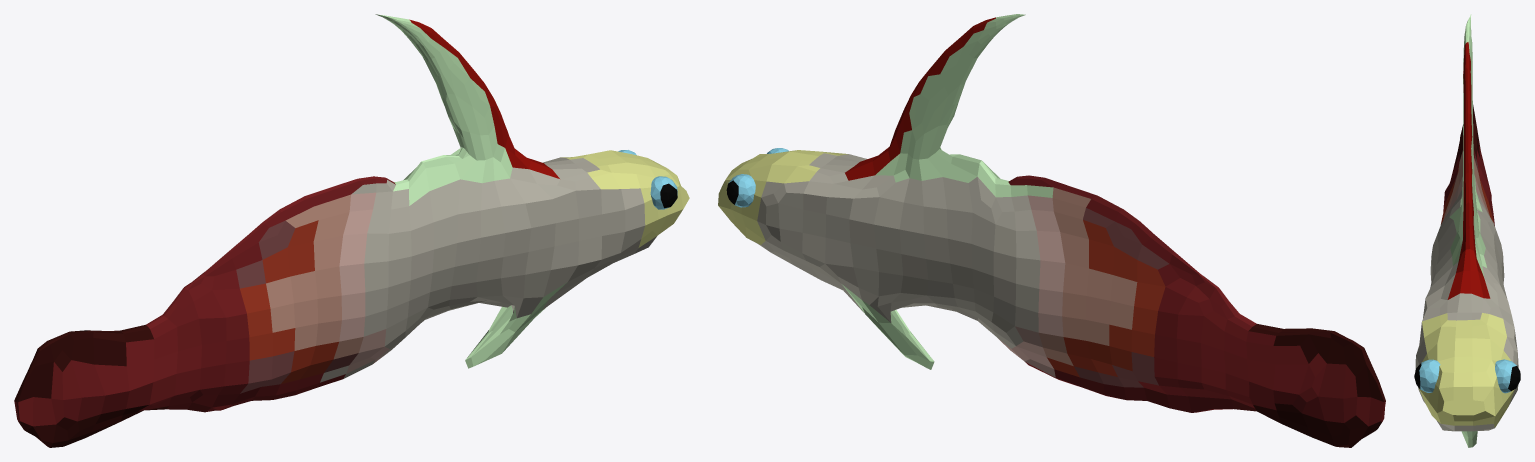
Rendered from FIREFISH GOBY.fbx.
3 views of the same model, side by side, from view 1: azimuth 30°, elevation 25°; view 2: azimuth 150°, elevation 25°; view 3: azimuth 270°, elevation 25° (orthographic).
Parts seen in each view (by area): view 1: Plane; view 2: Plane; view 3: Plane.
Boxes of the visible parts, bbox=[...] form: Plane: bbox=[14, 14, 689, 447]; Plane: bbox=[718, 14, 1385, 447]; Plane: bbox=[1414, 14, 1520, 447].
Size of the model in its own units: 6.72 by 3.67 by 0.932.
